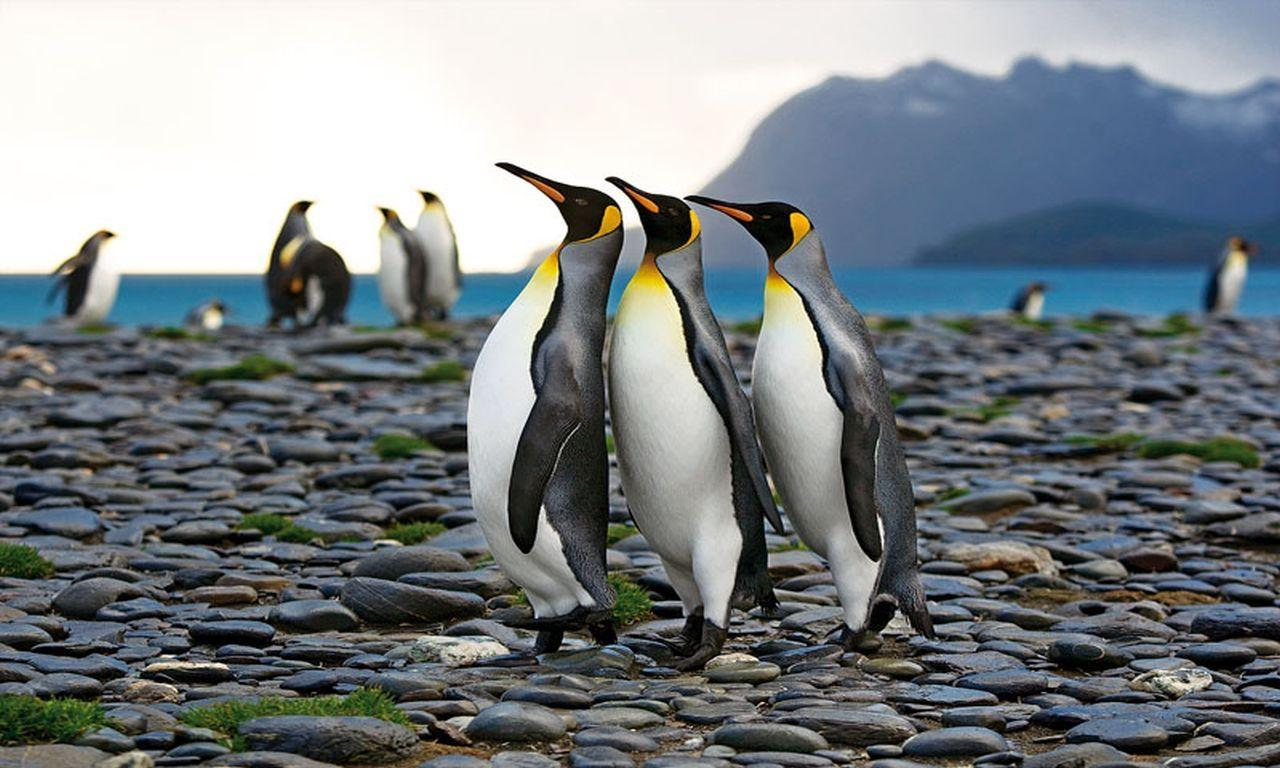Penguin: (685, 196, 932, 637), (605, 176, 782, 669), (468, 161, 623, 650), (48, 230, 118, 322), (287, 239, 351, 337), (265, 200, 313, 329), (415, 189, 462, 318), (377, 206, 424, 325), (1205, 235, 1255, 313), (1011, 283, 1045, 323)
